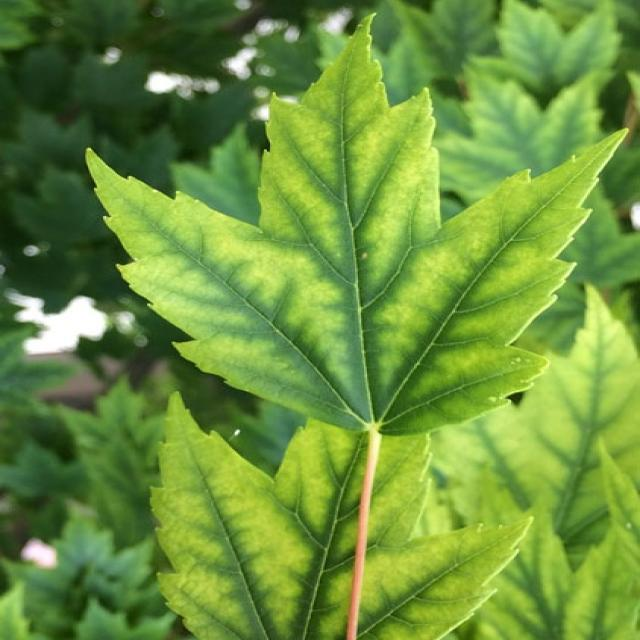Chlorosis: (65, 18, 640, 639)
